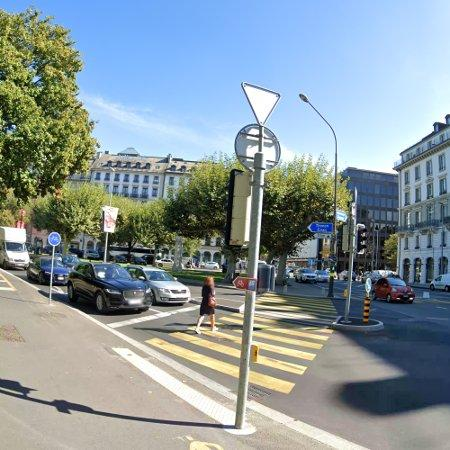crosswalks: (250, 295, 337, 394), (147, 314, 243, 378)
